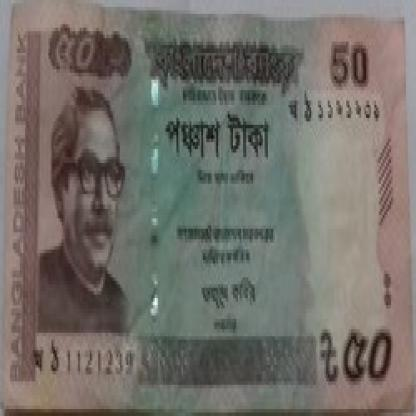Fifty taka: (314, 315, 394, 406), (52, 24, 110, 80)
